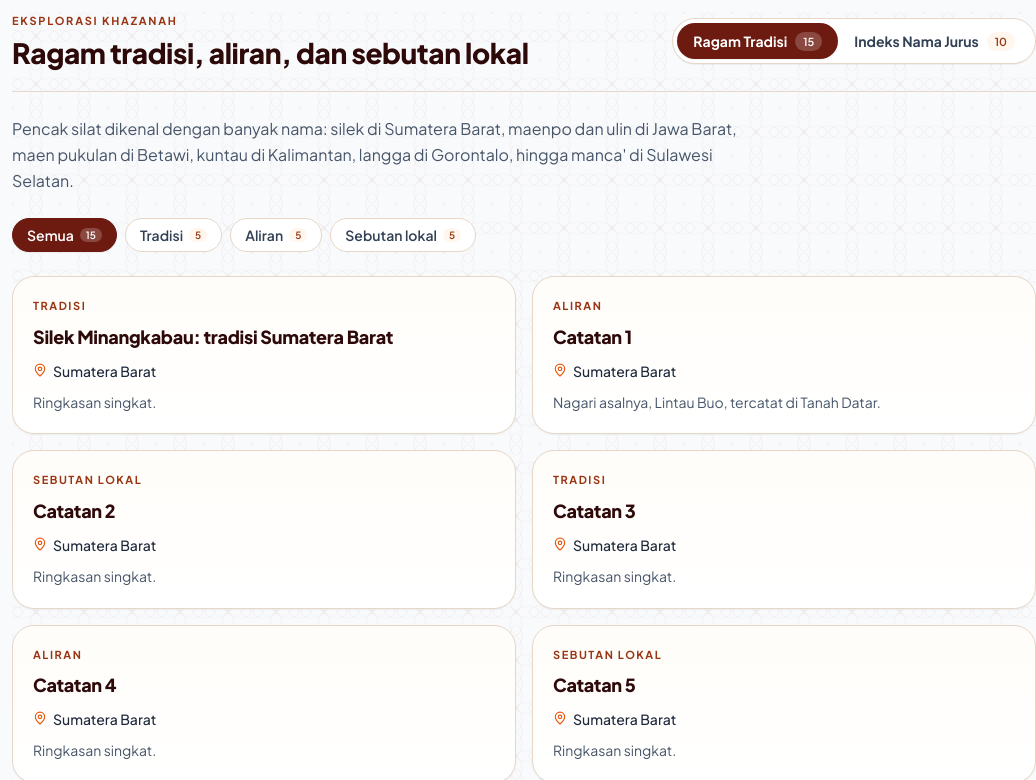
Scenario: HeritageSectionSwitcher › tidak menampilkan tanda pisah panjang pada nama, catatan, maupun label jurus
Expected: the heading "Silek Minangkabau: tradisi Sumatera Barat" is shown, [33,324,393,348]
Expected: the text "Nagari asalnya, Lintau Buo, tercatat di Tanah Datar." is shown, [553,392,881,410]
Click the tab "Indeks Nama Jurus 10" at (935, 42), box [838,24,1031,60]
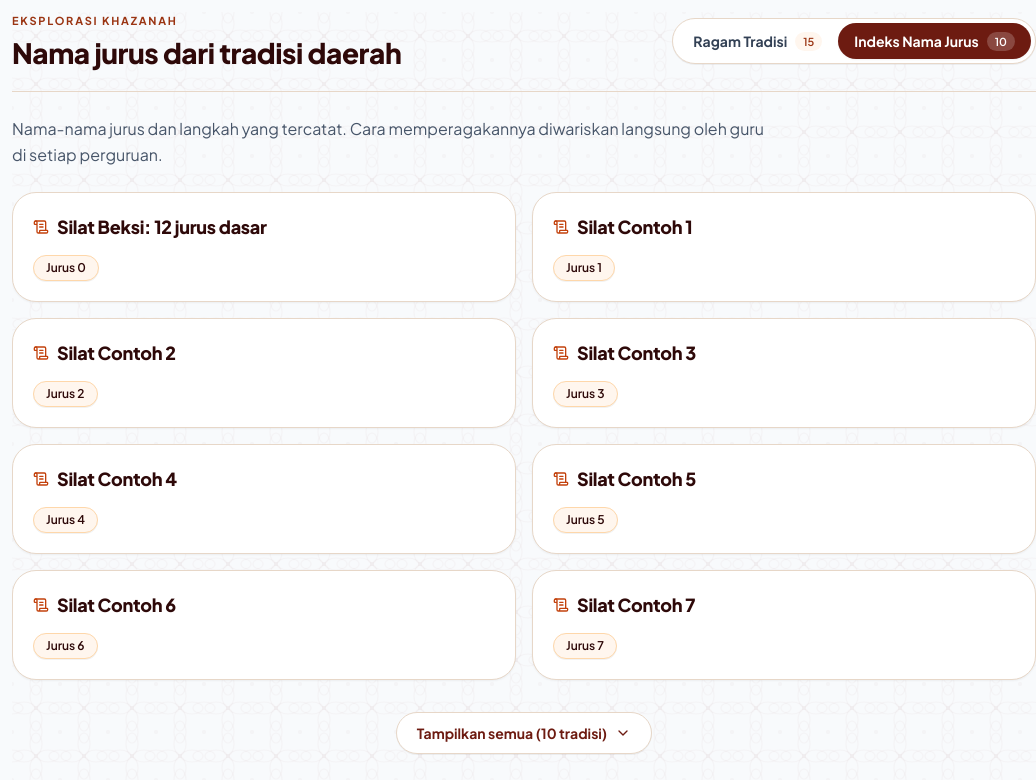
Expected: the text "Silat Beksi: 12 jurus dasar" is shown, [57,213,267,241]
